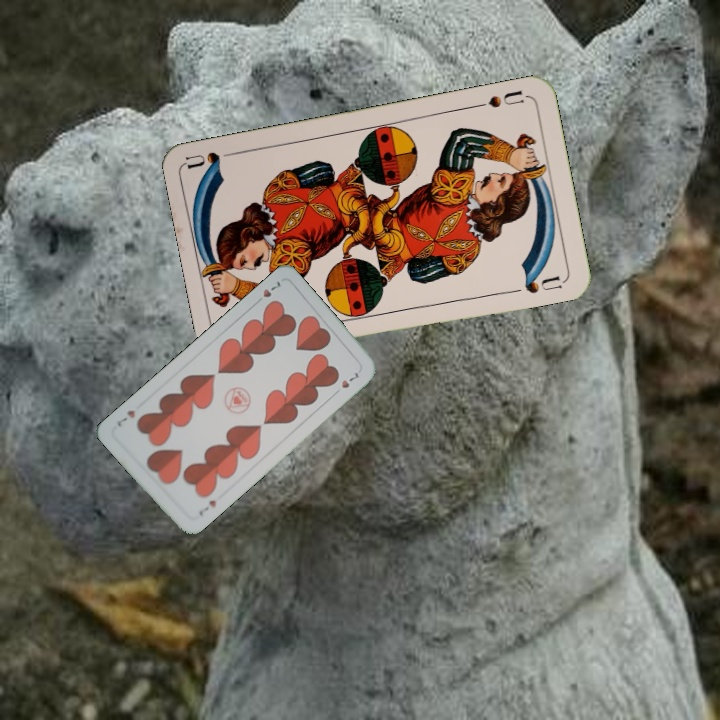H7: (251, 276, 283, 307), (195, 496, 219, 519)
SU: (471, 86, 530, 111)
